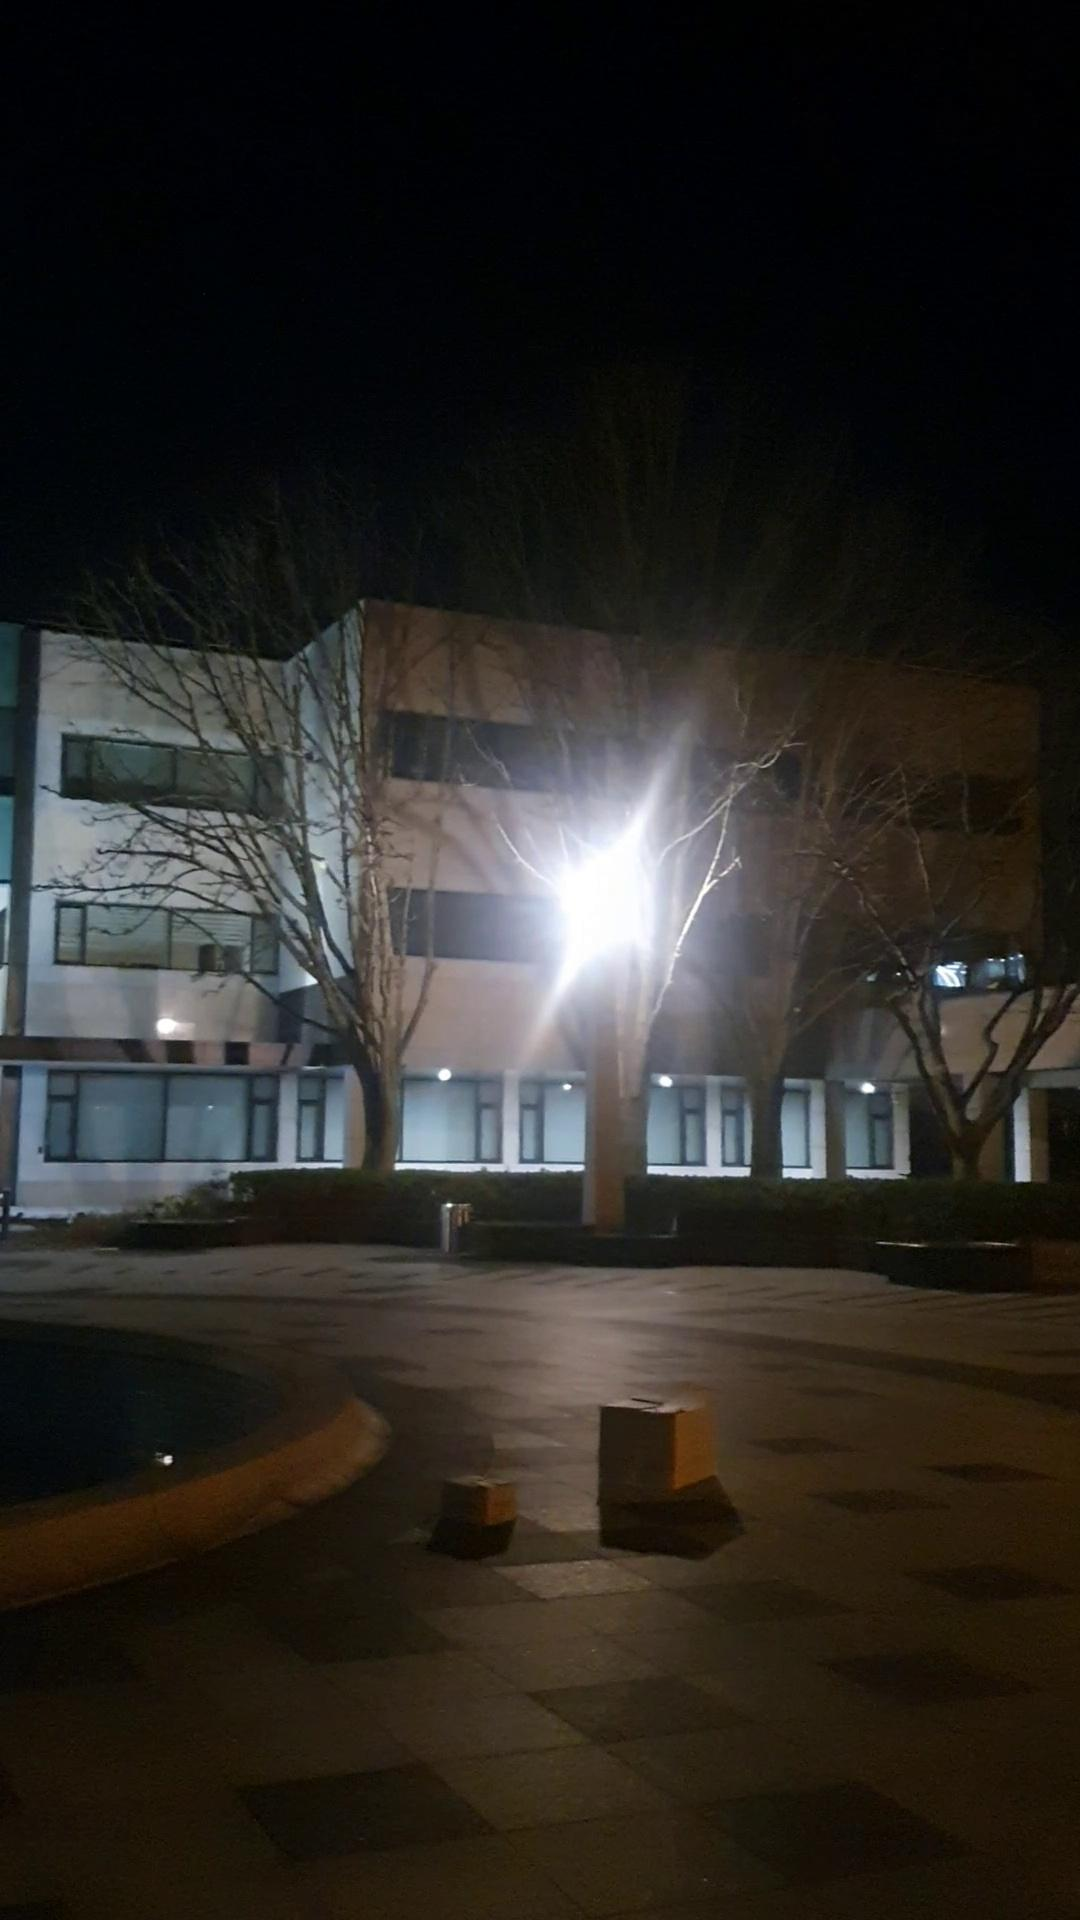Box: (588, 1389, 719, 1509), (443, 1462, 522, 1540)
